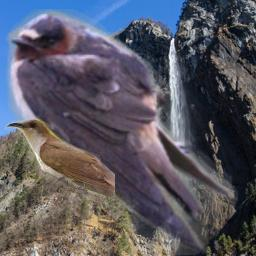Cuckoo: (4, 119, 115, 201)
Swallow: (4, 9, 238, 255)
